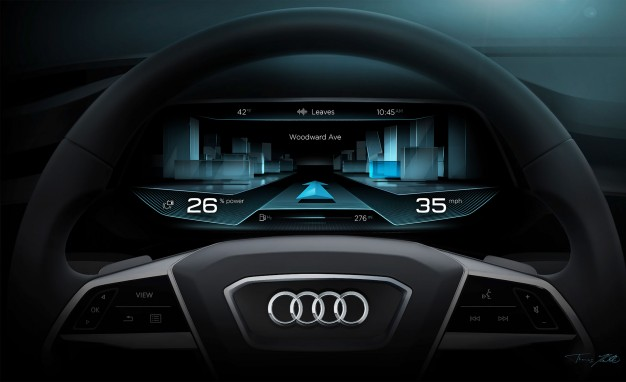audi: (261, 288, 370, 331)
